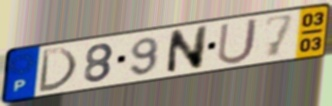7: (262, 12, 296, 60)
8: (83, 42, 115, 84)
9: (127, 35, 165, 77)
D: (36, 46, 80, 94)
N: (164, 23, 210, 76)
U: (215, 16, 261, 66)
